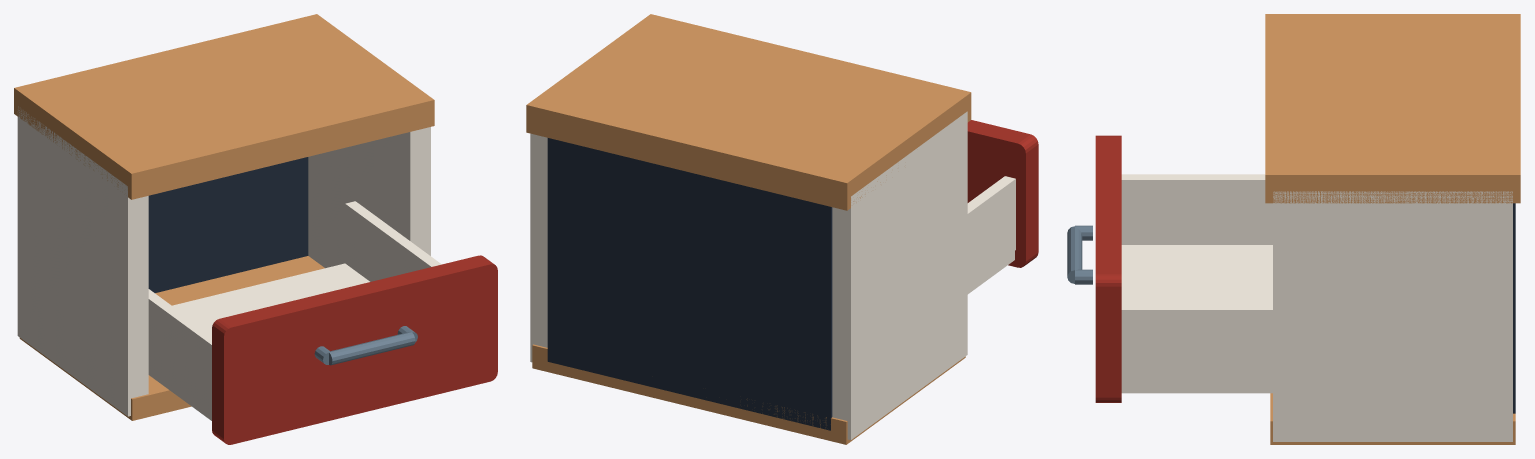
The model's file is drawer.glb.
3 views of the same model, side by side, from view 1: azimuth 30°, elevation 25°; view 2: azimuth 150°, elevation 25°; view 3: azimuth 270°, elevation 25° (orthographic). The views are drawn at different scales.
Visible parts, largest first — view 1: top, drawer front, side -0.68, back, side 0.68, tray, tray side -0.59, tray side 0.59, bottom, drawer grip1; view 2: back, top, side -0.68, drawer front, bottom, tray side -0.59, side 0.68; view 3: side 0.68, top, tray side 0.59, tray, tray side -0.59, drawer front, bottom, drawer grip1, back.
Boxes of the visible parts, left/top/right/bottom form: top: left=14, top=14, right=434, bottom=199; drawer front: left=212, top=255, right=497, bottom=444; side -0.68: left=17, top=106, right=148, bottom=416; back: left=148, top=157, right=308, bottom=292; side 0.68: left=308, top=127, right=430, bottom=268; tray: left=148, top=263, right=369, bottom=420; tray side -0.59: left=148, top=289, right=211, bottom=411; tray side 0.59: left=345, top=201, right=441, bottom=281; bottom: left=19, top=256, right=324, bottom=420; drawer grip1: left=329, top=332, right=415, bottom=365; back: left=547, top=138, right=832, bottom=430; top: left=526, top=14, right=971, bottom=210; side -0.68: left=832, top=111, right=967, bottom=439; drawer front: left=967, top=120, right=1038, bottom=267; bottom: left=532, top=344, right=965, bottom=444; tray side -0.59: left=967, top=176, right=1015, bottom=284; side 0.68: left=530, top=133, right=547, bottom=362; side 0.68: left=1273, top=191, right=1512, bottom=441; top: left=1265, top=14, right=1520, bottom=203; tray side 0.59: left=1121, top=304, right=1272, bottom=383; tray: left=1121, top=245, right=1272, bottom=393; tray side -0.59: left=1121, top=174, right=1272, bottom=244; drawer front: left=1095, top=135, right=1121, bottom=402; bottom: left=1270, top=393, right=1515, bottom=444; drawer grip1: left=1067, top=226, right=1082, bottom=283; back: left=1513, top=203, right=1515, bottom=413.
Bounding box in the file's own units: 1.46 × 1.15 × 1.74.
